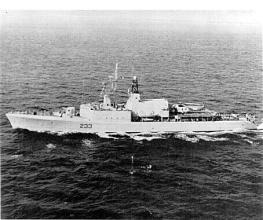warship: (6, 74, 258, 133)
